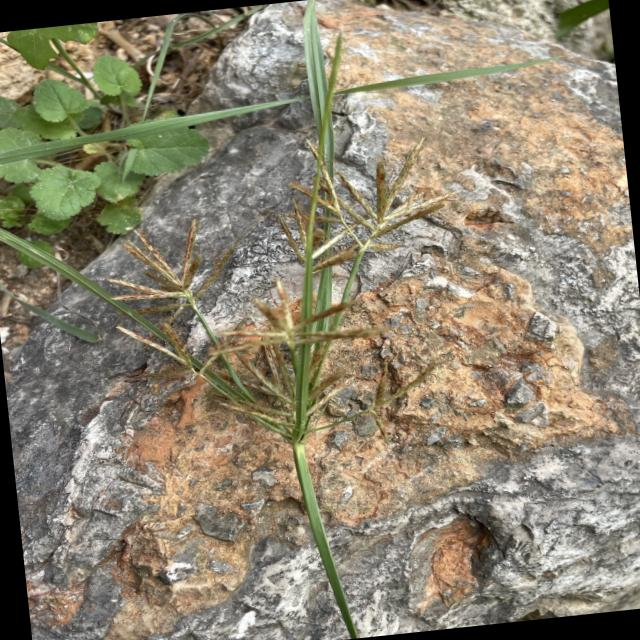cyperus: (85, 110, 482, 467)
